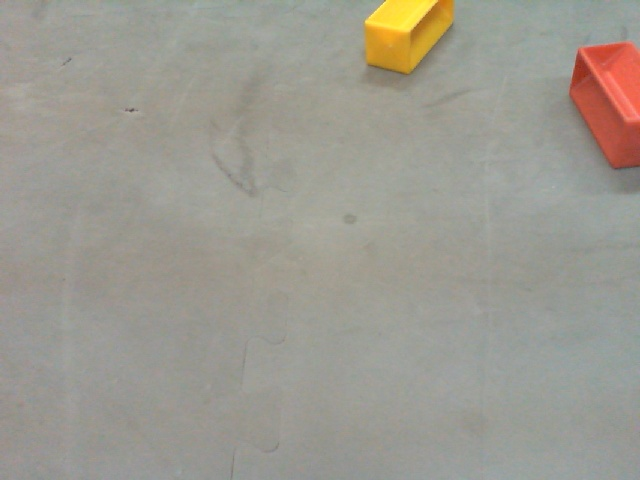RedSample: (566, 42, 640, 169)
YellowSample: (363, 1, 453, 77)
